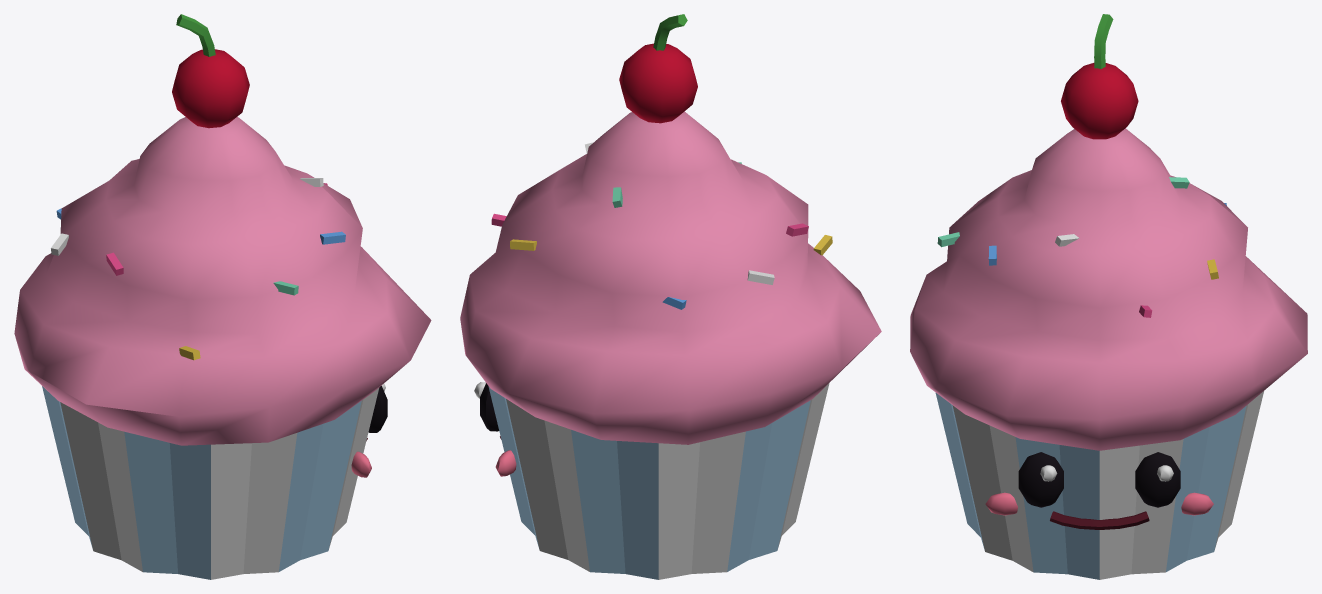
The model's file is cupcake.glb.
The picture shows the model from 3 angles, left to right: view 1: azimuth 30°, elevation 25°; view 2: azimuth 150°, elevation 25°; view 3: azimuth 270°, elevation 25°; orthographic projection. The views are drawn at different scales.
Parts seen in each view (by area): view 1: cupcake; view 2: cupcake; view 3: cupcake.
Part boxes in pixels (<box>): cupcake: <box>14,14,431,579</box>; cupcake: <box>460,14,881,579</box>; cupcake: <box>910,14,1307,579</box>.
Bounding box in the file's own units: 0.524 × 0.7061 × 0.5113.
